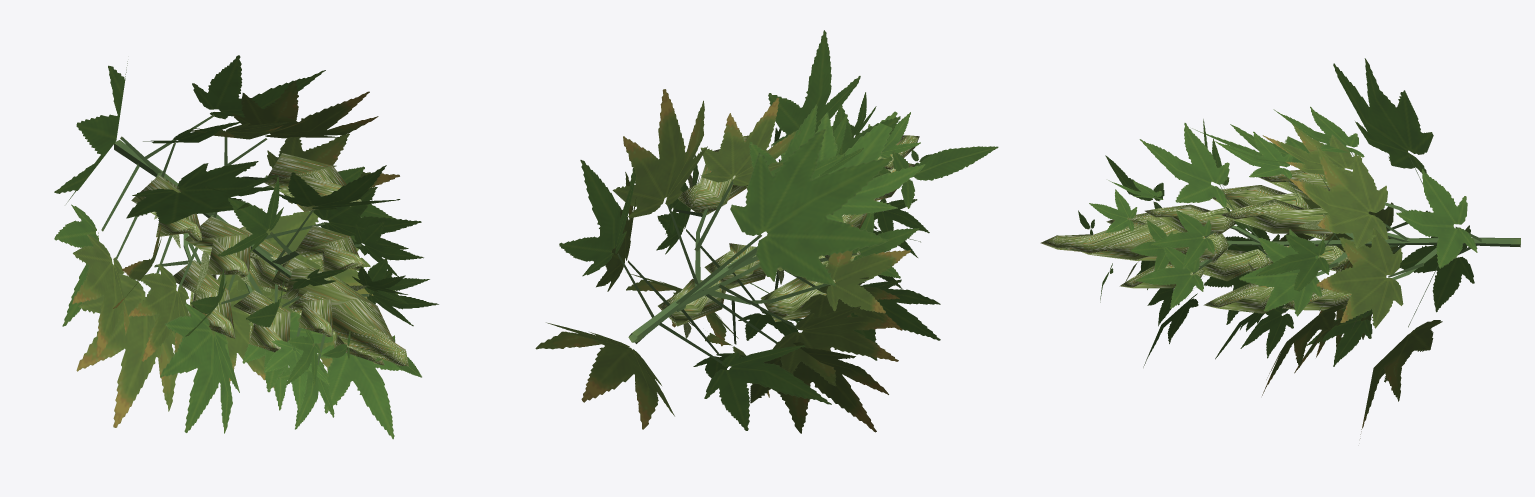
The model's file is p_hybrid_ripe_c0_cards.obj.
3 renders of one model, left to right at view 1: azimuth 30°, elevation 25°; view 2: azimuth 150°, elevation 25°; view 3: azimuth 270°, elevation 25°, orthographic. The views are drawn at different scales.
Size of the model in its own units: 1.29 by 1.25 by 1.48.
Materials: 1 (1 with a texture image).
